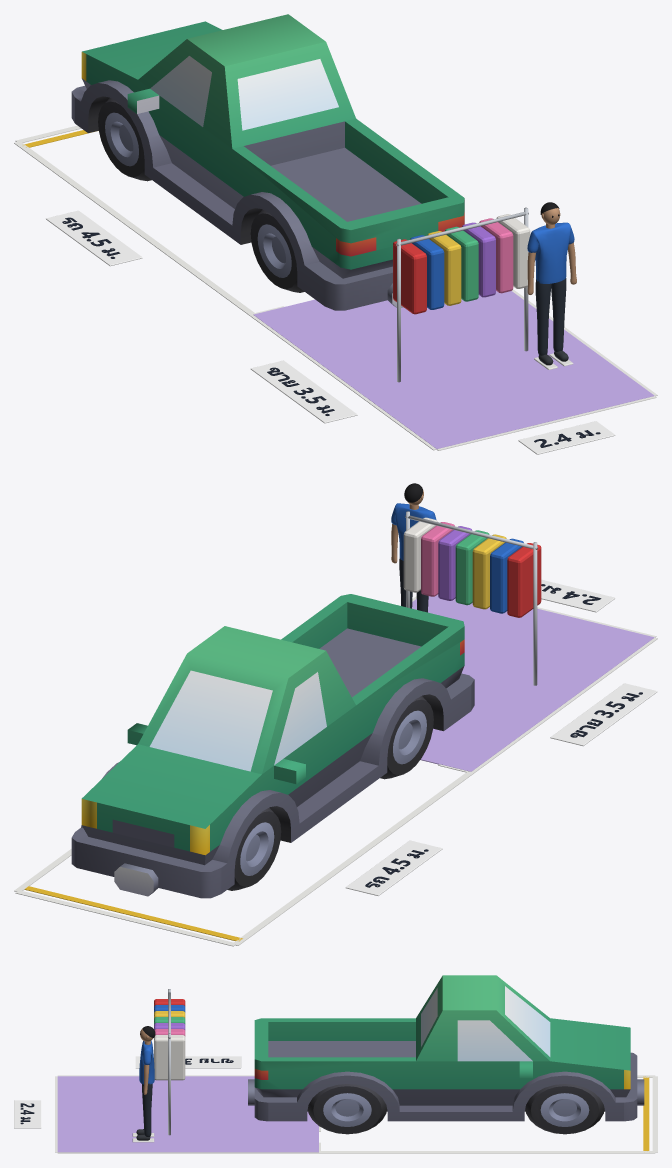
File: lot-boot-1.glb
3 views of the same model, one above another, from view 1: azimuth 30°, elevation 25°; view 2: azimuth 150°, elevation 25°; view 3: azimuth 270°, elevation 25° (orthographic). The views are drawn at different scales.
Visible parts, largest first — view 1: body, Cube, wheel-back-left, wheel-front-left, Cube.002, Cube.020, sk.002, Cube.021, Cube.010, Cube.019, Cube.014, Cube.011 (+7 smaller); view 2: body, Cube, wheel-front-left, wheel-back-left, Cube.002, Cube.020, Cube.010, Cube.021, Cube.016, Cube.011, Cube.012, Cube.013 (+7 smaller); view 3: body, Cube, wheel-front-right, wheel-back-right, Cube.003, Cube.016, Cube.020, Cube.019, sk.002, Cube.009, sk.001, Cube.004 (+2 smaller).
Boxes of the visible parts, x1=… form: body: x1=71, y1=14, x2=464, y2=310; Cube: x1=253, y1=291, x2=654, y2=448; wheel-back-left: x1=250, y1=209, x2=304, y2=292; wheel-front-left: x1=98, y1=98, x2=151, y2=181; Cube.002: x1=14, y1=141, x2=436, y2=450; Cube.020: x1=250, y1=360, x2=357, y2=423; sk.002: x1=527, y1=222, x2=574, y2=283; Cube.021: x1=46, y1=210, x2=142, y2=266; Cube.010: x1=393, y1=239, x2=426, y2=314; Cube.019: x1=518, y1=421, x2=615, y2=454; Cube.014: x1=462, y1=222, x2=495, y2=297; Cube.011: x1=410, y1=235, x2=444, y2=309; body: x1=71, y1=594, x2=474, y2=898; Cube: x1=412, y1=594, x2=654, y2=771; wheel-front-left: x1=227, y1=807, x2=281, y2=890; wheel-back-left: x1=380, y1=696, x2=433, y2=779; Cube.002: x1=232, y1=637, x2=657, y2=945; Cube.020: x1=550, y1=683, x2=657, y2=746; Cube.010: x1=507, y1=543, x2=541, y2=617; Cube.021: x1=345, y1=840, x2=442, y2=895; Cube.016: x1=403, y1=517, x2=437, y2=592; Cube.011: x1=490, y1=538, x2=523, y2=613; Cube.012: x1=472, y1=534, x2=506, y2=609; Cube.013: x1=455, y1=530, x2=489, y2=605; body: x1=248, y1=975, x2=644, y2=1121; Cube: x1=57, y1=1076, x2=318, y2=1152; wheel-front-right: x1=525, y1=1084, x2=604, y2=1134; wheel-back-right: x1=307, y1=1084, x2=386, y2=1134; Cube.003: x1=57, y1=1151, x2=655, y2=1153; Cube.016: x1=154, y1=1035, x2=185, y2=1080; Cube.020: x1=135, y1=1056, x2=241, y2=1068; Cube.019: x1=14, y1=1100, x2=41, y2=1128; sk.002: x1=139, y1=1040, x2=154, y2=1084; Cube.009: x1=643, y1=1076, x2=649, y2=1150; sk.001: x1=142, y1=1083, x2=152, y2=1136; Cube.004: x1=652, y1=1076, x2=657, y2=1152.
Size of the model in its own units: 3.07 by 1.8 by 8.62.
19 materials, 1 textured.
